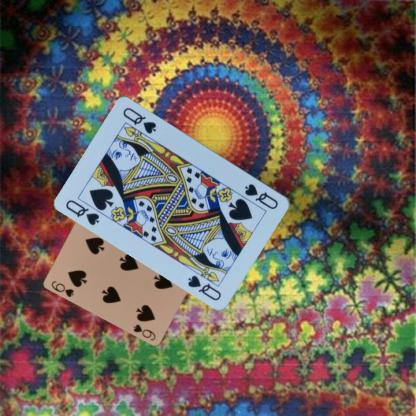6s: (49, 278, 75, 298)
Qs: (242, 181, 280, 211), (63, 197, 101, 227)
